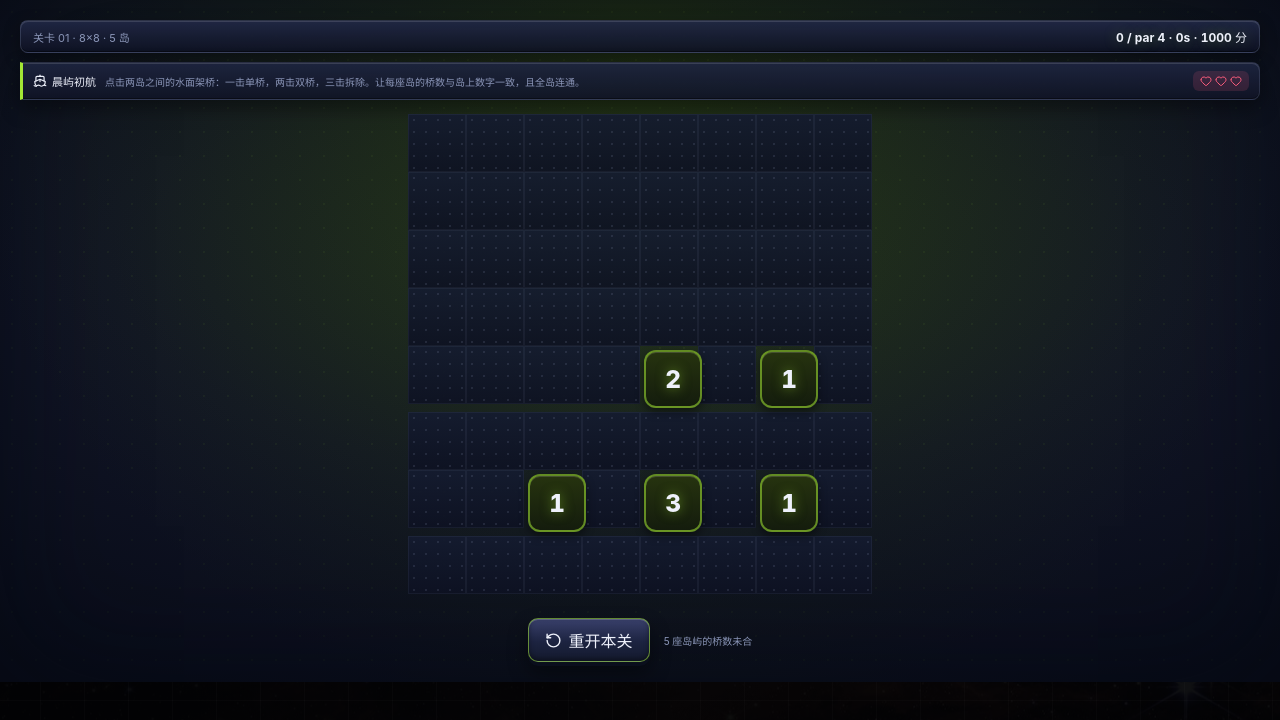
Test: bridge isles game › charges a crew member per overfull bridge and fails after the third mistake
Click the button named "水面 38". click: [727, 375]
box: [698,346,756,404]
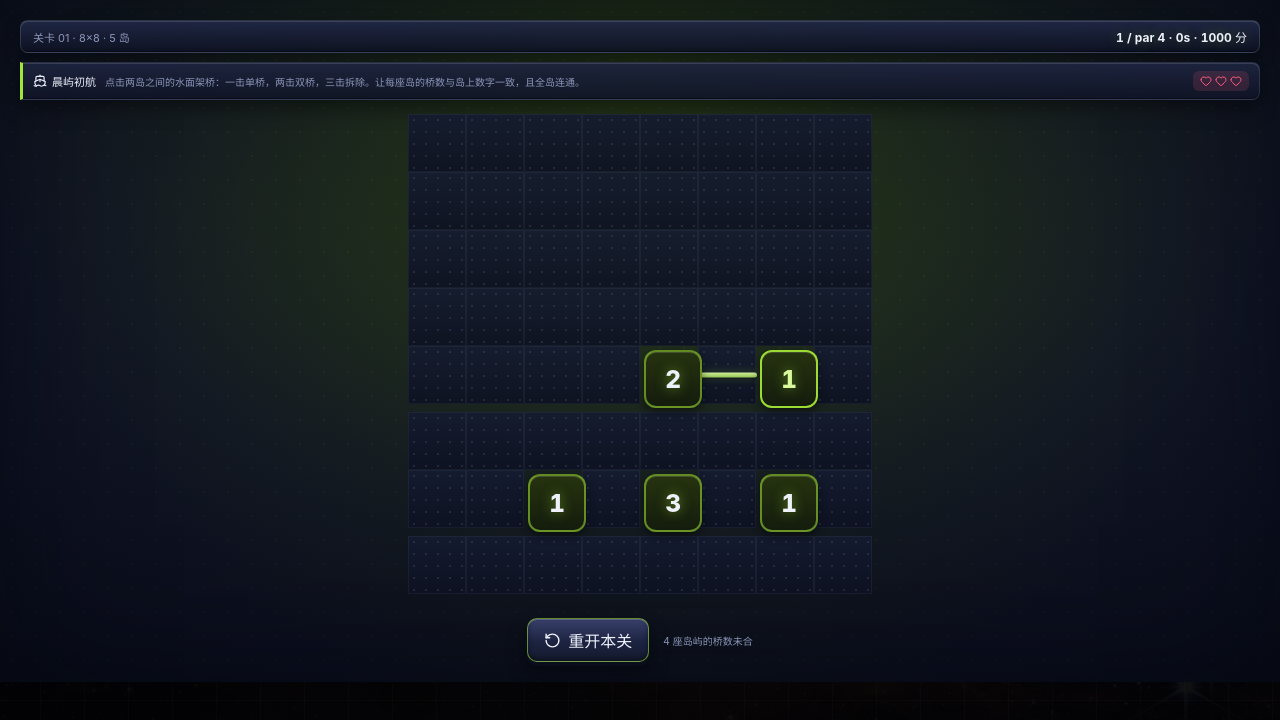
Click the button named "水面 38：1 座桥". click: [727, 375]
box: [698,346,756,404]
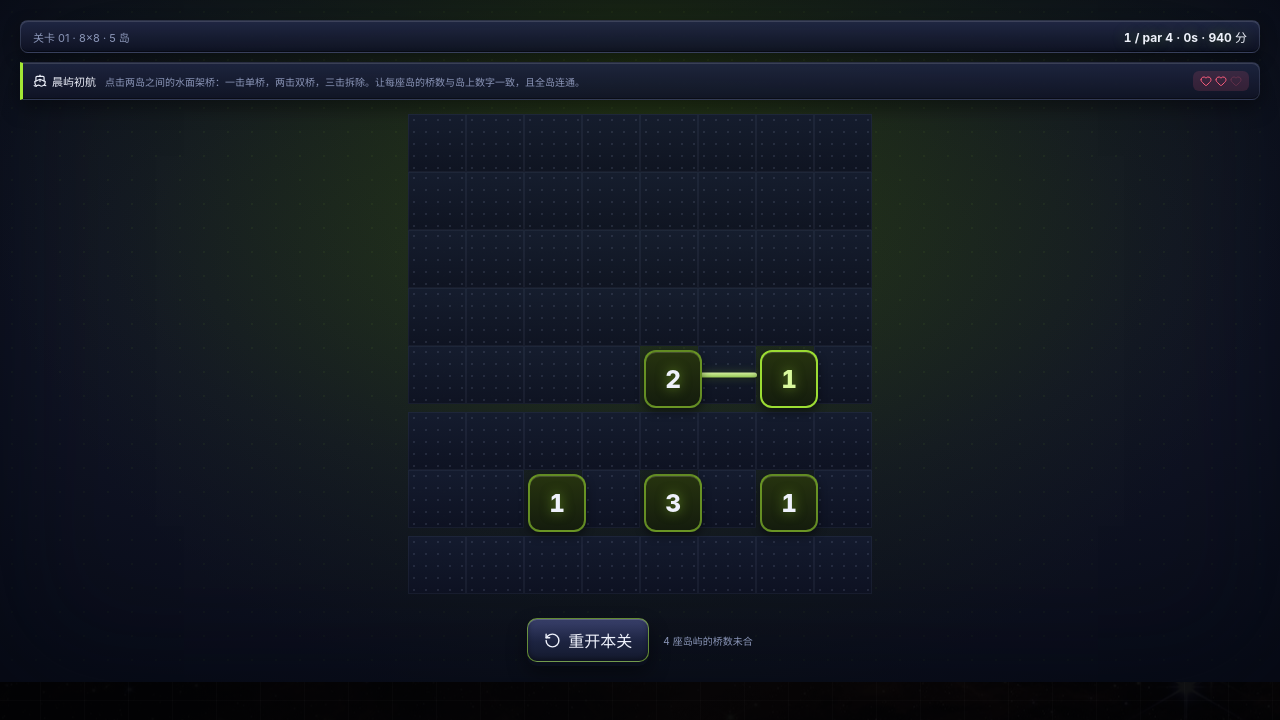
Click the button named "水面 38：1 座桥". click: [727, 375]
box: [698,346,756,404]
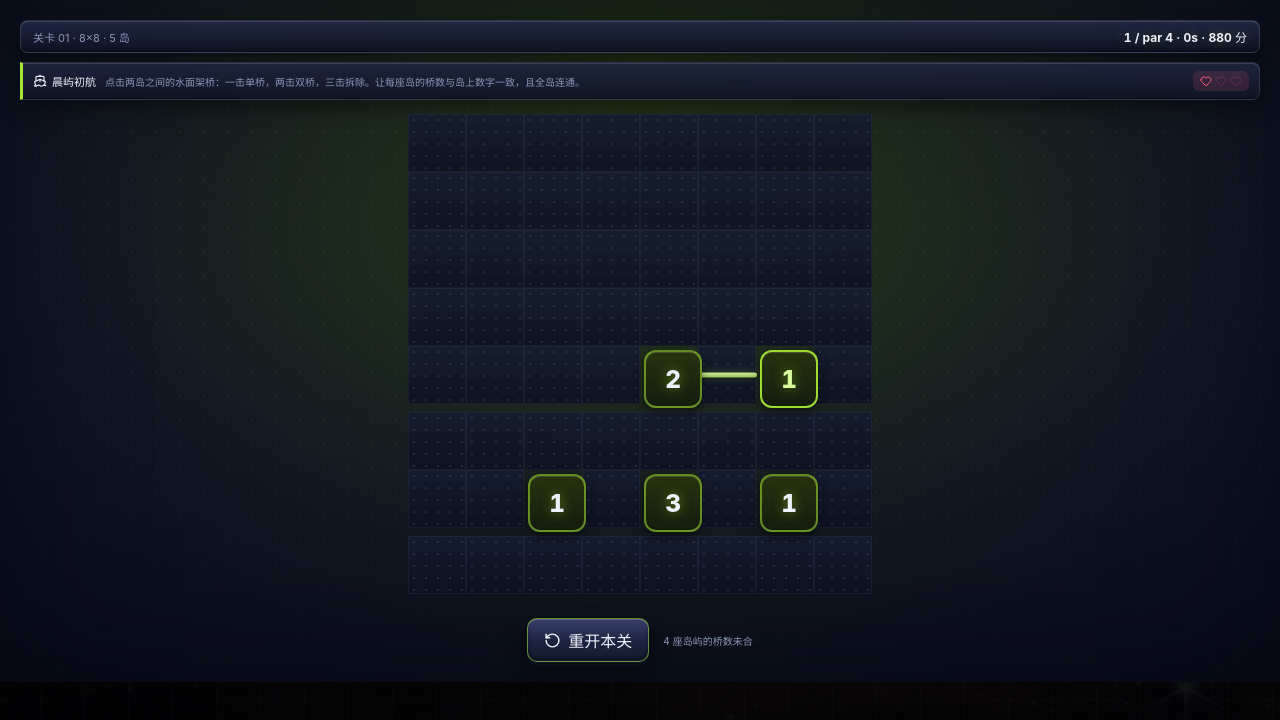
Click the button named "水面 38：1 座桥". click: [727, 375]
box: [698,346,756,404]
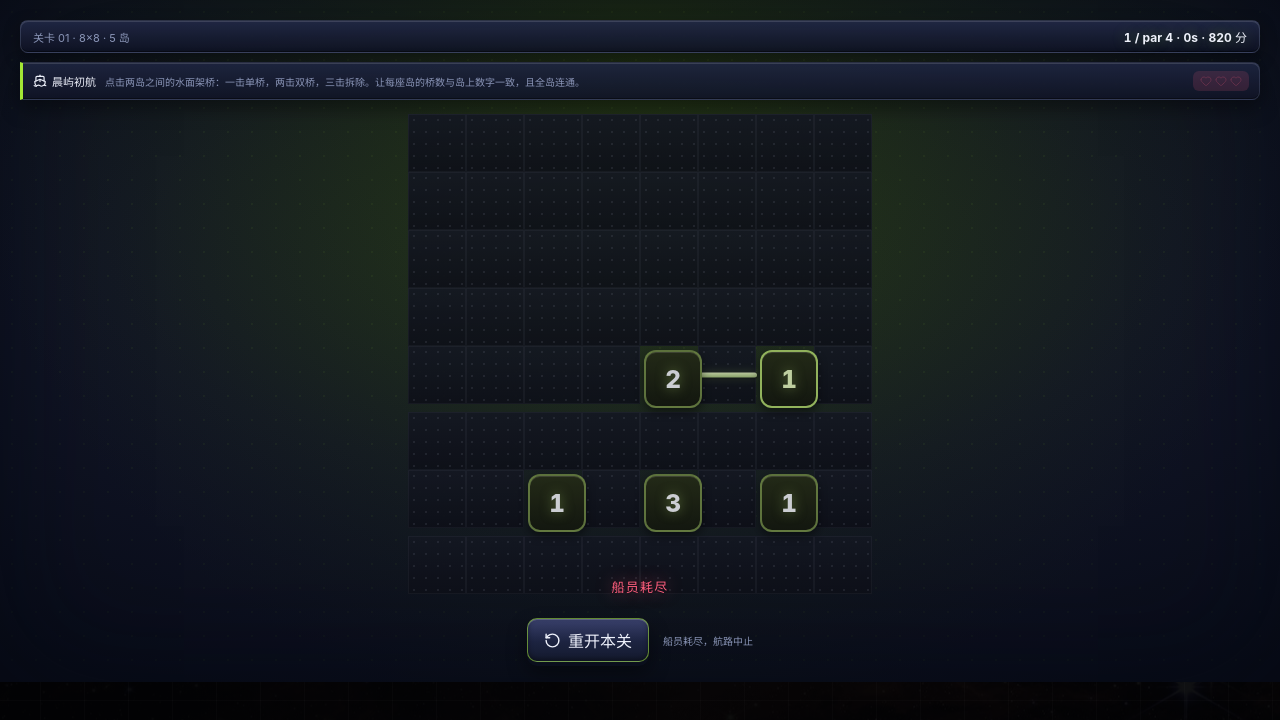
Check: the text with class "is-coral" reads "船员耗尽", box [611,579,669,595]
Check: the text with class "bi-legend" shows "船员耗尽", box [663,634,753,646]
